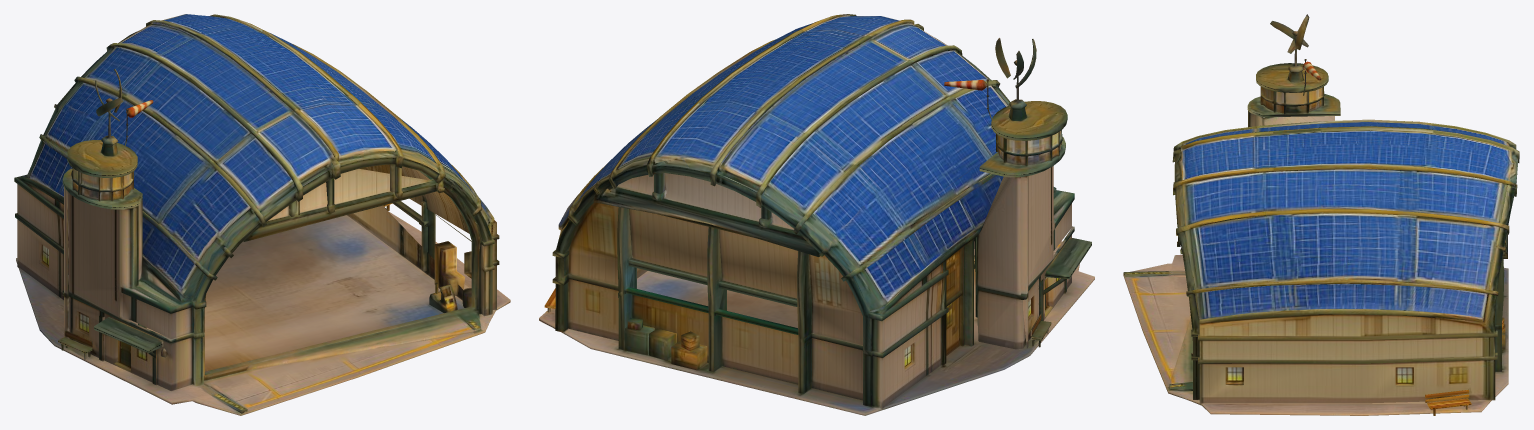
Rendered from hanger.glb.
3 views of the same model, side by side, from view 1: azimuth 30°, elevation 25°; view 2: azimuth 150°, elevation 25°; view 3: azimuth 270°, elevation 25° (orthographic). The views are drawn at different scales.
Visible parts, largest first — view 1: f30d68bc_12cb_4835_b99f_a5ac4a3066c5; view 2: f30d68bc_12cb_4835_b99f_a5ac4a3066c5; view 3: f30d68bc_12cb_4835_b99f_a5ac4a3066c5.
Boxes of the visible parts, x1,y1,x2,y2 form: f30d68bc_12cb_4835_b99f_a5ac4a3066c5: [14, 14, 510, 415]; f30d68bc_12cb_4835_b99f_a5ac4a3066c5: [539, 14, 1094, 415]; f30d68bc_12cb_4835_b99f_a5ac4a3066c5: [1123, 14, 1519, 415].
Size of the model in its own units: 0.9995 by 0.6694 by 0.9634.
1 material, 1 textured.
